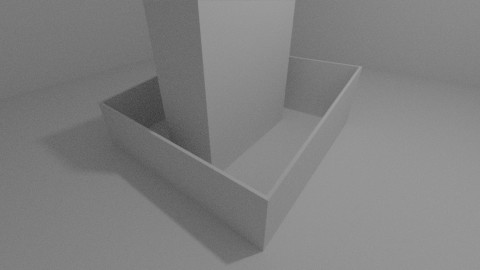cheminee: (142, 1, 295, 180)
eaf: (102, 102, 266, 246)
